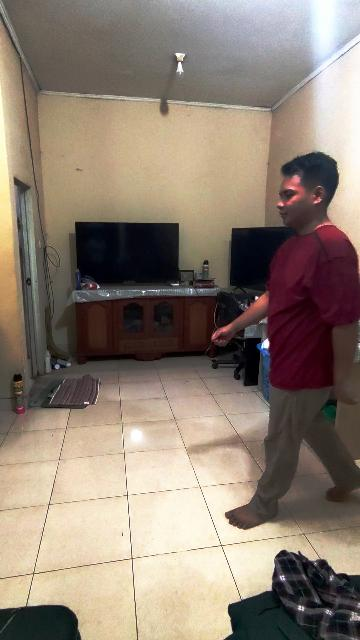berjalan: (206, 151, 360, 524)
